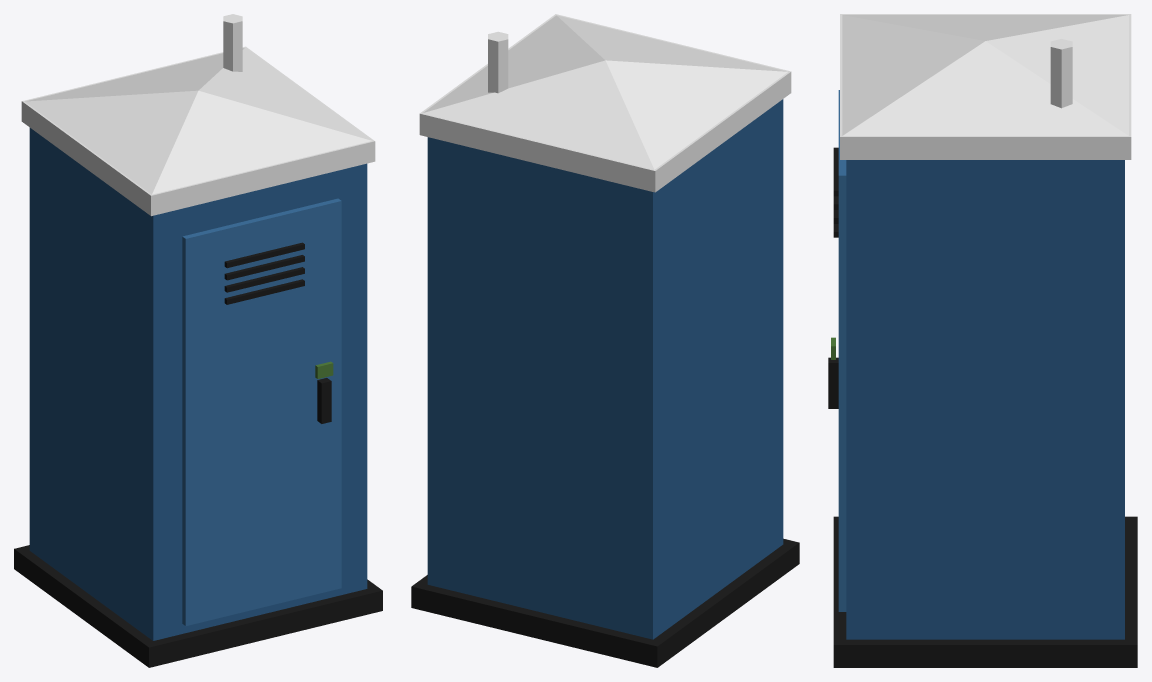
Rendered from Camp_Toilet.fbx.
The picture shows the model from 3 angles, left to right: view 1: azimuth 30°, elevation 25°; view 2: azimuth 150°, elevation 25°; view 3: azimuth 270°, elevation 25°; orthographic projection. The views are drawn at different scales.
Visible parts, largest first — view 1: Camp_Toilet; view 2: Camp_Toilet; view 3: Camp_Toilet.
Boxes of the visible parts, x1,y1,x2,y2 form: Camp_Toilet: [14, 14, 382, 667]; Camp_Toilet: [411, 14, 799, 667]; Camp_Toilet: [828, 14, 1137, 667].
Bounding box in the file's own units: 1.2 × 2.6 × 1.22.
